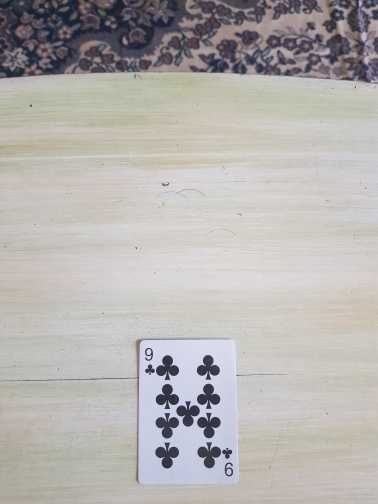nine: (136, 338, 241, 486)
